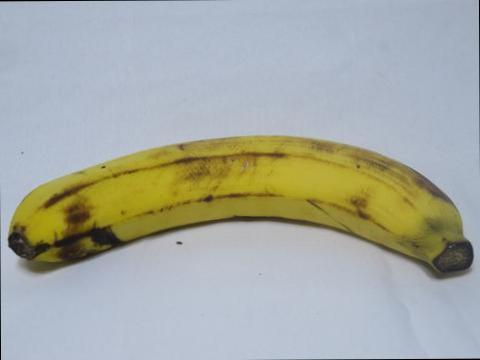ripe: (3, 127, 464, 286)
